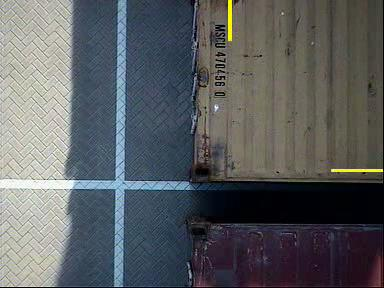groundmarker_2: (126, 181, 182, 219)
